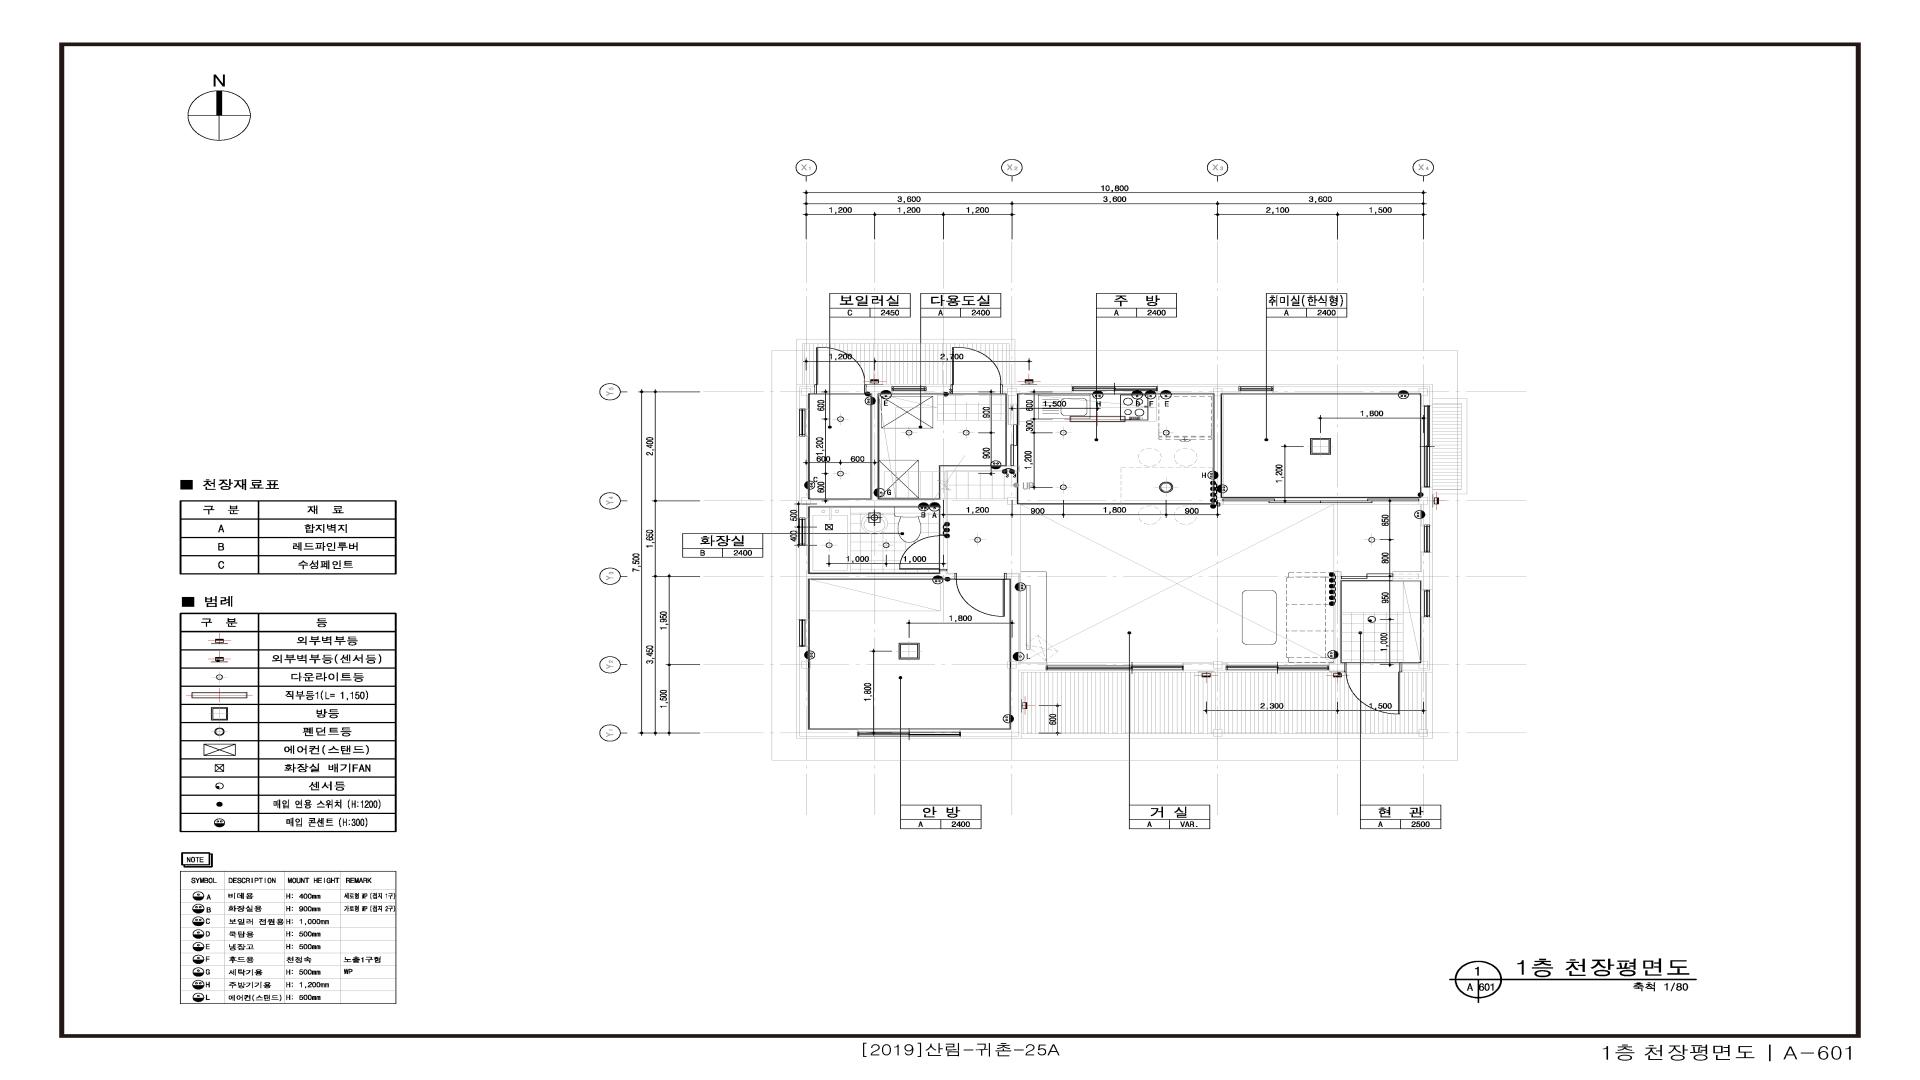door: (1344, 663, 1401, 714), (815, 347, 866, 394), (951, 347, 1002, 394), (955, 573, 1007, 617), (899, 534, 947, 571), (1046, 663, 1183, 672), (1421, 405, 1433, 487), (1226, 663, 1329, 672), (1223, 499, 1419, 503), (1006, 425, 1017, 466), (1341, 573, 1392, 579)
wall: (797, 384, 1020, 534), (1021, 672, 1433, 738), (960, 573, 1046, 738), (797, 545, 954, 619), (1158, 384, 1239, 505), (797, 647, 857, 738), (1273, 384, 1433, 405), (1002, 384, 1072, 425), (1402, 617, 1432, 672), (1393, 552, 1433, 590), (1329, 572, 1344, 672), (1419, 487, 1433, 525), (1183, 661, 1226, 672), (797, 384, 815, 409), (926, 384, 951, 394)
window: (1072, 384, 1158, 394), (857, 729, 960, 736), (1239, 384, 1274, 394), (892, 384, 926, 394), (1421, 590, 1433, 617), (797, 518, 809, 545), (797, 619, 808, 647), (797, 409, 808, 436), (1421, 525, 1432, 552)
